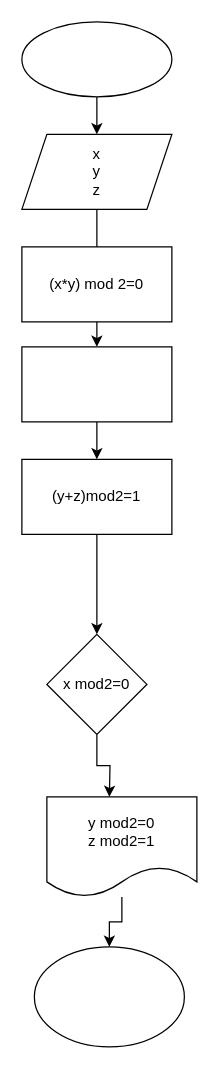
This 219x1069 diagram has some shape labels left out. The centre of each missing label's shape, as x and y in pixels:
"(x+y)mod2=1" goes at pixel 96 384.
"başla" goes at pixel 96 59.
"dur" goes at pixel 108 996.
